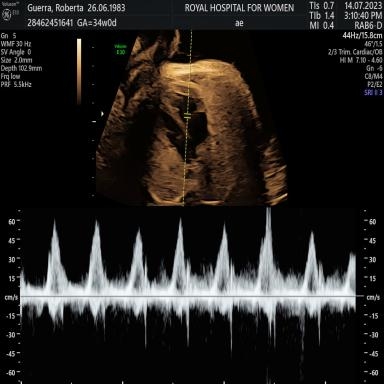Ultrasound-Waves: (28, 210, 356, 384)
